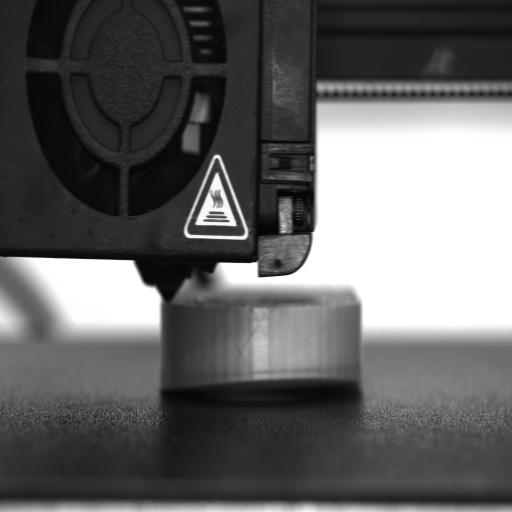warp: (166, 360, 357, 394)
